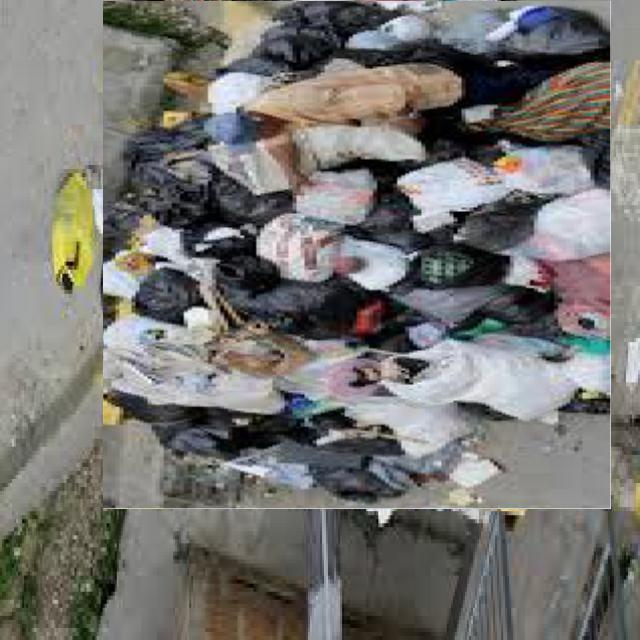Trashbag: (216, 264, 361, 326), (134, 172, 225, 236), (136, 268, 195, 331), (245, 28, 335, 67), (218, 179, 296, 220), (281, 0, 366, 32)
